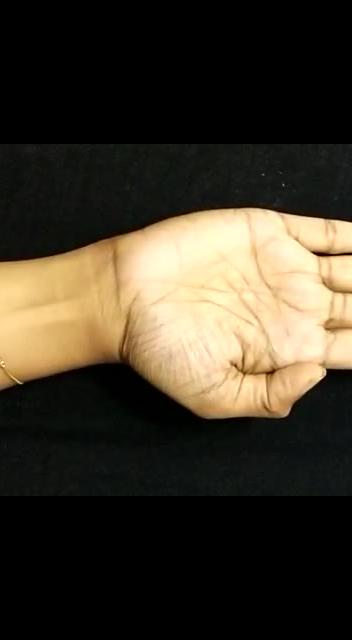pataka: (87, 214, 352, 428)
